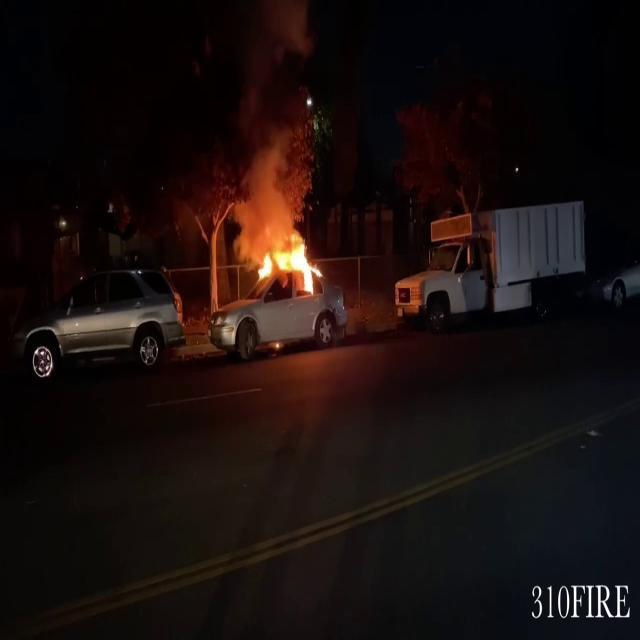Fire: (252, 228, 328, 297)
Smoke: (224, 6, 314, 236)
